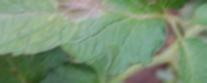Tomato leaf late blight: (0, 0, 176, 79)
